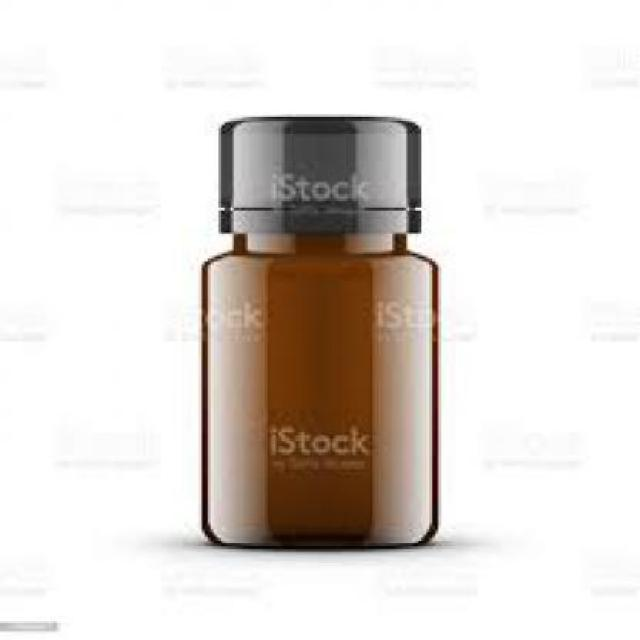kaca: (198, 234, 436, 546)
